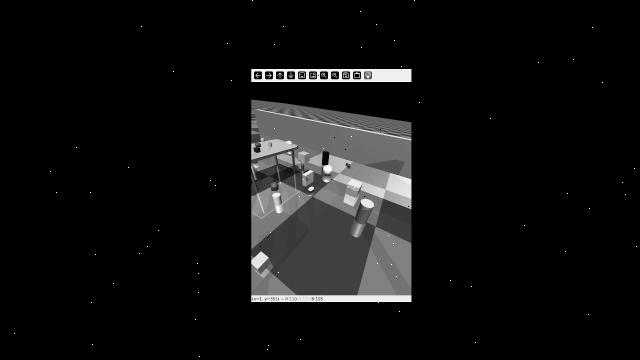cilindro: (354, 194, 378, 225), (271, 190, 283, 207), (320, 151, 332, 165), (250, 164, 257, 177), (299, 162, 307, 172), (268, 139, 273, 148), (261, 137, 265, 142)
cuadrado: (253, 246, 275, 275), (344, 176, 363, 200), (296, 150, 314, 162), (254, 147, 261, 154)
esfera: (321, 165, 334, 175), (305, 185, 316, 195), (269, 181, 281, 189), (285, 139, 293, 145), (253, 142, 262, 147), (252, 161, 258, 167), (348, 164, 351, 167), (345, 163, 349, 165)
rectangulo: (300, 171, 318, 182)
